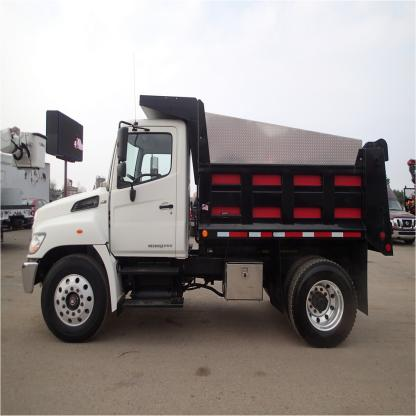dump_truck: (20, 86, 393, 363)
